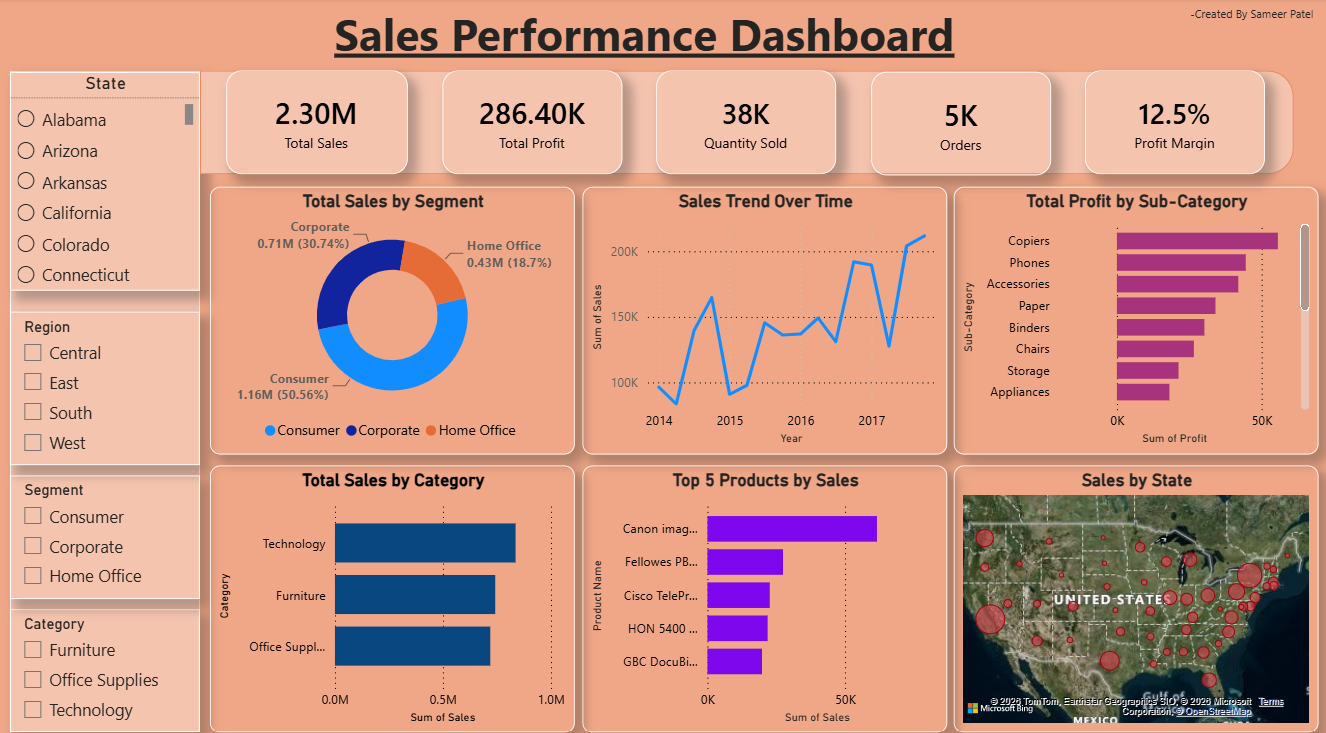

Layout of this report page (visuals, bound fields, positions):
{"tool":"powerbi","page":{"name":"Page 1","canvas":[1280,720],"ordinal":0},"visuals":[{"type":"shape","box":[9.7,71.2,183.4,638.2],"z":0},{"type":"listSlicer","fields":{"Values":["Superstore Dashboard.State"]},"box":[9.7,71.2,183.4,211.1],"z":1000},{"type":"shape","box":[193,70,1055.6,100.1],"z":2000},{"type":"cardVisual","fields":{"Data":["Superstore Dashboard.Total Sales"]},"box":[218.4,70,174.9,100.1],"z":3000},{"type":"cardVisual","fields":{"Data":["Superstore Dashboard.Total Profit"]},"box":[426.5,70,173.7,100.1],"z":4000},{"type":"cardVisual","fields":{"Data":["Superstore Dashboard.Total Quantity"]},"box":[633.4,70,173.7,100.1],"z":5000},{"type":"cardVisual","fields":{"Data":["Superstore Dashboard.Total Orders"]},"box":[840.3,71.2,173.7,100.1],"z":6000},{"type":"slicer","fields":{"Values":["Superstore Dashboard.Category"]},"box":[9.7,589.9,183.4,119.4],"z":7000},{"type":"slicer","fields":{"Values":["Superstore Dashboard.Region"]},"box":[9.7,302.8,183.4,148.4],"z":8000},{"type":"slicer","fields":{"Values":["Superstore Dashboard.Segment"]},"box":[9.7,460.9,183.4,119.4],"z":9000},{"type":"donutChart","title":"Total Sales by Segment","fields":{"Y":["Sum(Superstore Dashboard.Sales)"],"Category":["Superstore Dashboard.Segment"]},"box":[202.7,182.2,352.3,258.2],"z":10000},{"type":"clusteredBarChart","title":"Total Sales by Category","fields":{"Category":["Superstore Dashboard.Category"],"Y":["Sum(Superstore Dashboard.Sales)"]},"box":[202.7,451.2,352.3,258.2],"z":11000},{"type":"lineChart","title":"Sales Trend Over Time","fields":{"Y":["Sum(Superstore Dashboard.Sales)"],"Category":["Superstore Dashboard.Order Date.Variation.Date Hierarchy.Year","Superstore Dashboard.Order Date.Variation.Date Hierarchy.Quarter","Superstore Dashboard.Order Date.Variation.Date Hierarchy.Month","Superstore Dashboard.Order Date.Variation.Date Hierarchy.Day"]},"box":[562.2,182.2,352.3,258.2],"z":12000},{"type":"barChart","title":"Top 5 Products by Sales","fields":{"Category":["Superstore Dashboard.Product Name"],"Y":["Sum(Superstore Dashboard.Sales)","Sum(Superstore Dashboard.Sales)"]},"box":[562.2,451.2,352.3,258.2],"z":13000},{"type":"barChart","title":"Total Profit by Sub-Category","fields":{"Category":["Superstore Dashboard.Sub-Category"],"Y":["Sum(Superstore Dashboard.Profit)"]},"box":[920.5,182.2,352.3,258.2],"z":14000},{"type":"map","title":"Sales by State","fields":{"Category":["Superstore Dashboard.State"],"Size":["Sum(Superstore Dashboard.Sales)"]},"box":[920.5,451.2,352.3,258.2],"z":15000},{"type":"cardVisual","fields":{"Data":["Superstore Dashboard.Profit Margin"]},"box":[1047.2,70,173.7,100.1],"z":16000},{"type":"textbox","box":[109.8,0,1024.3,70],"z":17000},{"type":"textbox","box":[1142.5,0,130.3,35],"z":18000}]}

Visuals, with their boxes in screenshot pixels (x1, y1, x2, y2), scaled from the page's 1280x720 canvas onto the 1326x733 screenshot:
shape: bbox(10, 72, 200, 722)
listSlicer - Superstore Dashboard.State: bbox(10, 72, 200, 287)
shape: bbox(200, 71, 1293, 173)
cardVisual - Superstore Dashboard.Total Sales: bbox(226, 71, 407, 173)
cardVisual - Superstore Dashboard.Total Profit: bbox(442, 71, 622, 173)
cardVisual - Superstore Dashboard.Total Quantity: bbox(656, 71, 836, 173)
cardVisual - Superstore Dashboard.Total Orders: bbox(870, 72, 1050, 174)
slicer - Superstore Dashboard.Category: bbox(10, 601, 200, 722)
slicer - Superstore Dashboard.Region: bbox(10, 308, 200, 459)
slicer - Superstore Dashboard.Segment: bbox(10, 469, 200, 591)
"Total Sales by Segment" donutChart: bbox(210, 185, 575, 448)
"Total Sales by Category" clusteredBarChart: bbox(210, 459, 575, 722)
"Sales Trend Over Time" lineChart: bbox(582, 185, 947, 448)
"Top 5 Products by Sales" barChart: bbox(582, 459, 947, 722)
"Total Profit by Sub-Category" barChart: bbox(954, 185, 1319, 448)
"Sales by State" map: bbox(954, 459, 1319, 722)
cardVisual - Superstore Dashboard.Profit Margin: bbox(1085, 71, 1265, 173)
textbox: bbox(114, 0, 1175, 71)
textbox: bbox(1184, 0, 1319, 36)
